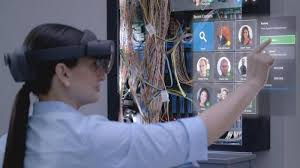hololens: (6, 35, 116, 87)
